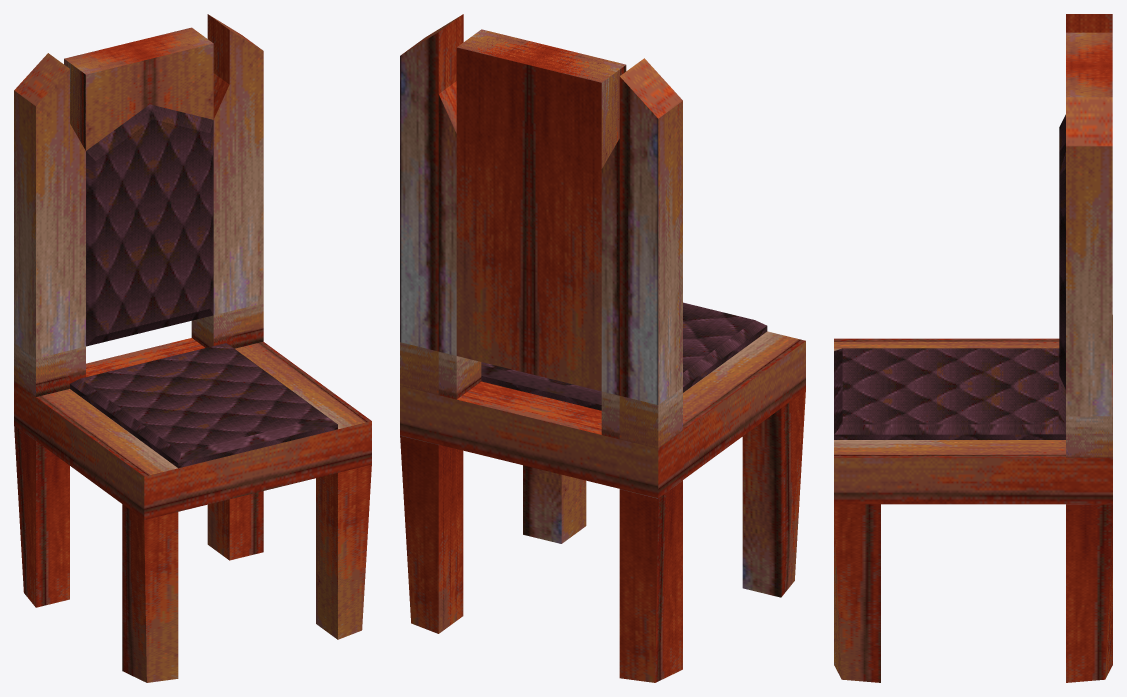
File: chair.fbx
The picture shows the model from 3 angles, left to right: view 1: azimuth 30°, elevation 25°; view 2: azimuth 150°, elevation 25°; view 3: azimuth 270°, elevation 25°; orthographic projection. The views are drawn at different scales.
Visible parts, largest first — view 1: chair; view 2: chair; view 3: chair.
Part boxes in pixels (bbox=[...]): chair: bbox=[14, 14, 371, 682]; chair: bbox=[400, 14, 805, 682]; chair: bbox=[834, 14, 1112, 682].
Size of the model in its own units: 64.97 by 145 by 64.36.
